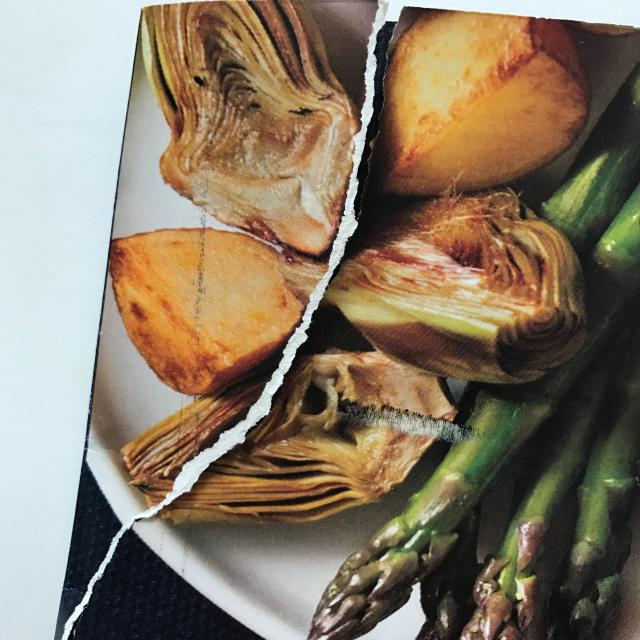paper: (43, 0, 640, 640)
